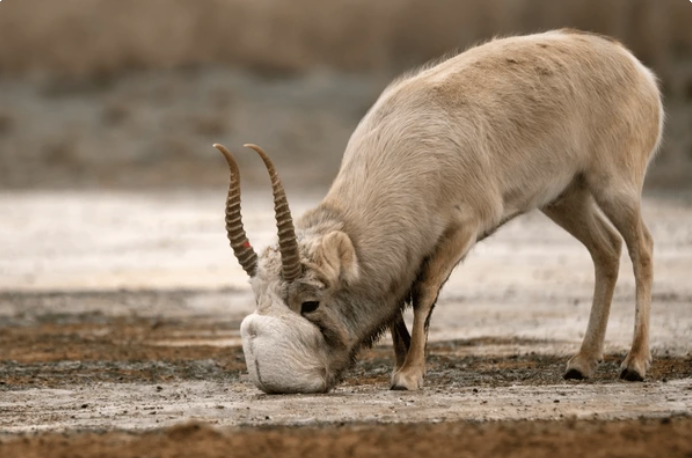saiga: (218, 19, 656, 390)
